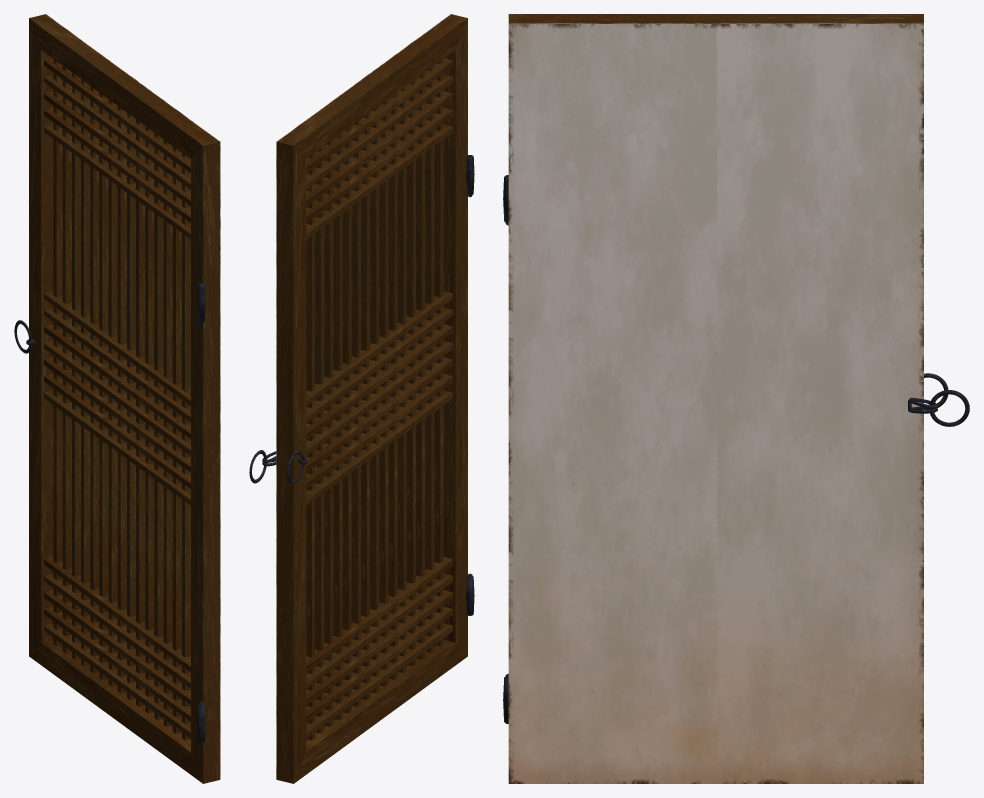
Rendered from SM_Door01a.fbx.
The picture shows the model from 3 angles, left to right: view 1: azimuth 30°, elevation 25°; view 2: azimuth 150°, elevation 25°; view 3: azimuth 270°, elevation 25°; orthographic projection. The views are drawn at different scales.
Parts seen in each view (by area): view 1: SM_Door01a; view 2: SM_Door01a; view 3: SM_Door01a.
Boxes of the visible parts, <box> form: SM_Door01a: <box>14,14,220,783</box>; SM_Door01a: <box>249,14,474,783</box>; SM_Door01a: <box>503,14,969,783</box>.
Bounding box in the file's own units: 8.08 × 141 × 78.64.
1 material, 1 textured.
